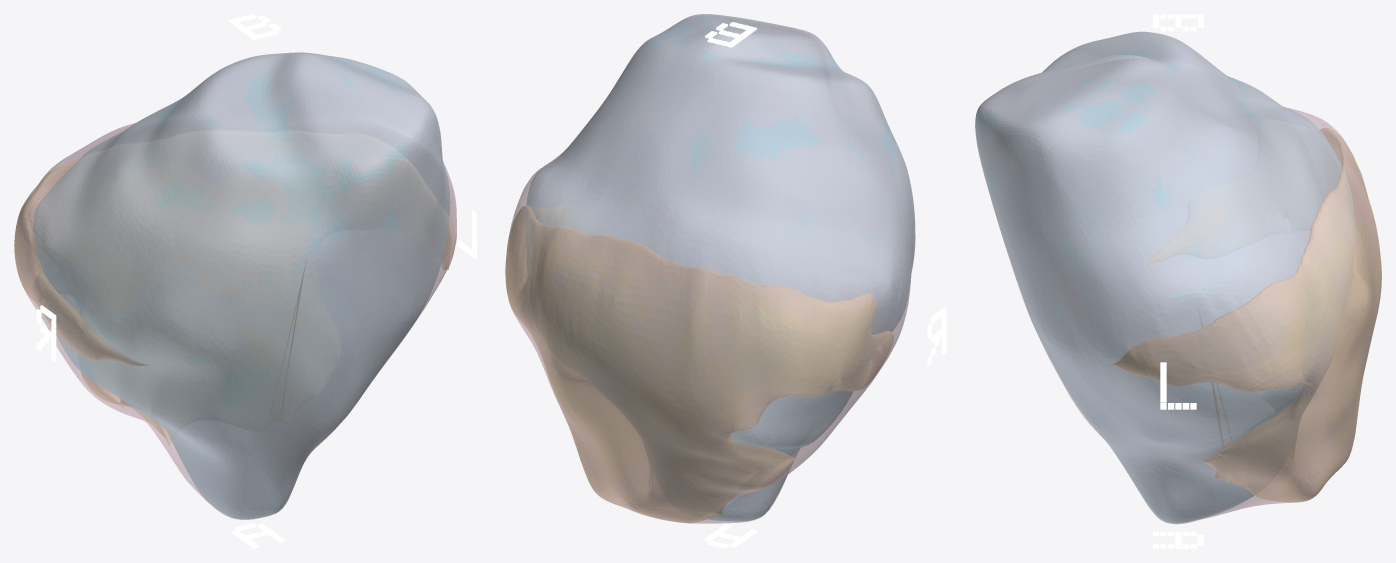
3 renders of one model, left to right at view 1: azimuth 30°, elevation 25°; view 2: azimuth 150°, elevation 25°; view 3: azimuth 270°, elevation 25°, orthographic. The views are drawn at different scales.
Visible parts, largest first — view 1: prostate_gland, transition_zone, peripheral_zone, pv_ar_marker_B, pv_ar_marker_R, pv_ar_marker_A; view 2: prostate_gland, transition_zone, peripheral_zone, pv_ar_marker_B, pv_ar_marker_R, pv_ar_marker_A; view 3: prostate_gland, transition_zone, peripheral_zone, pv_ar_marker_B, pv_ar_marker_A, pv_ar_marker_L.
Boxes of the visible parts, x1,y1,x2,y2 form: prostate_gland: (15,52,456,519); transition_zone: (33,52,449,519); peripheral_zone: (14,158,455,446); pv_ar_marker_B: (228,14,280,39); pv_ar_marker_R: (36,305,56,361); pv_ar_marker_A: (232,523,284,548); prostate_gland: (505,14,915,523); transition_zone: (526,14,914,521); peripheral_zone: (505,205,893,522); pv_ar_marker_B: (705,22,756,47); pv_ar_marker_R: (927,307,946,365); pv_ar_marker_A: (705,523,756,548); prostate_gland: (975,31,1381,524); transition_zone: (975,32,1354,523); peripheral_zone: (1112,128,1381,502); pv_ar_marker_B: (1153,14,1203,31); pv_ar_marker_A: (1153,531,1203,548); pv_ar_marker_L: (1160,362,1196,409).
Size of the model in its own units: 0.0586 by 0.0677 by 0.0481.
